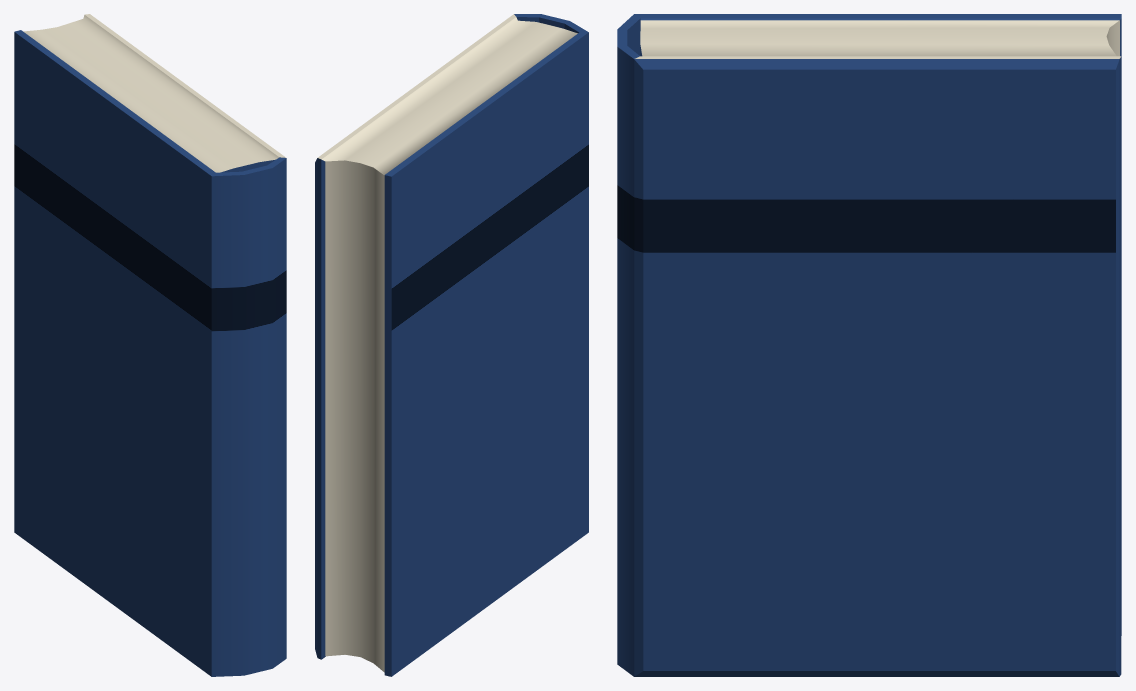
File: SM_Book.FBX
3 views of the same model, side by side, from view 1: azimuth 30°, elevation 25°; view 2: azimuth 150°, elevation 25°; view 3: azimuth 270°, elevation 25° (orthographic). The views are drawn at different scales.
Visible parts, largest first — view 1: book_low010; view 2: book_low010; view 3: book_low010.
Boxes of the visible parts, x1=… form: book_low010: x1=14, y1=14, x2=286, y2=676; book_low010: x1=315, y1=14, x2=588, y2=676; book_low010: x1=617, y1=14, x2=1121, y2=676.
Size of the model in its own units: 1.77 by 10.75 by 7.95.
